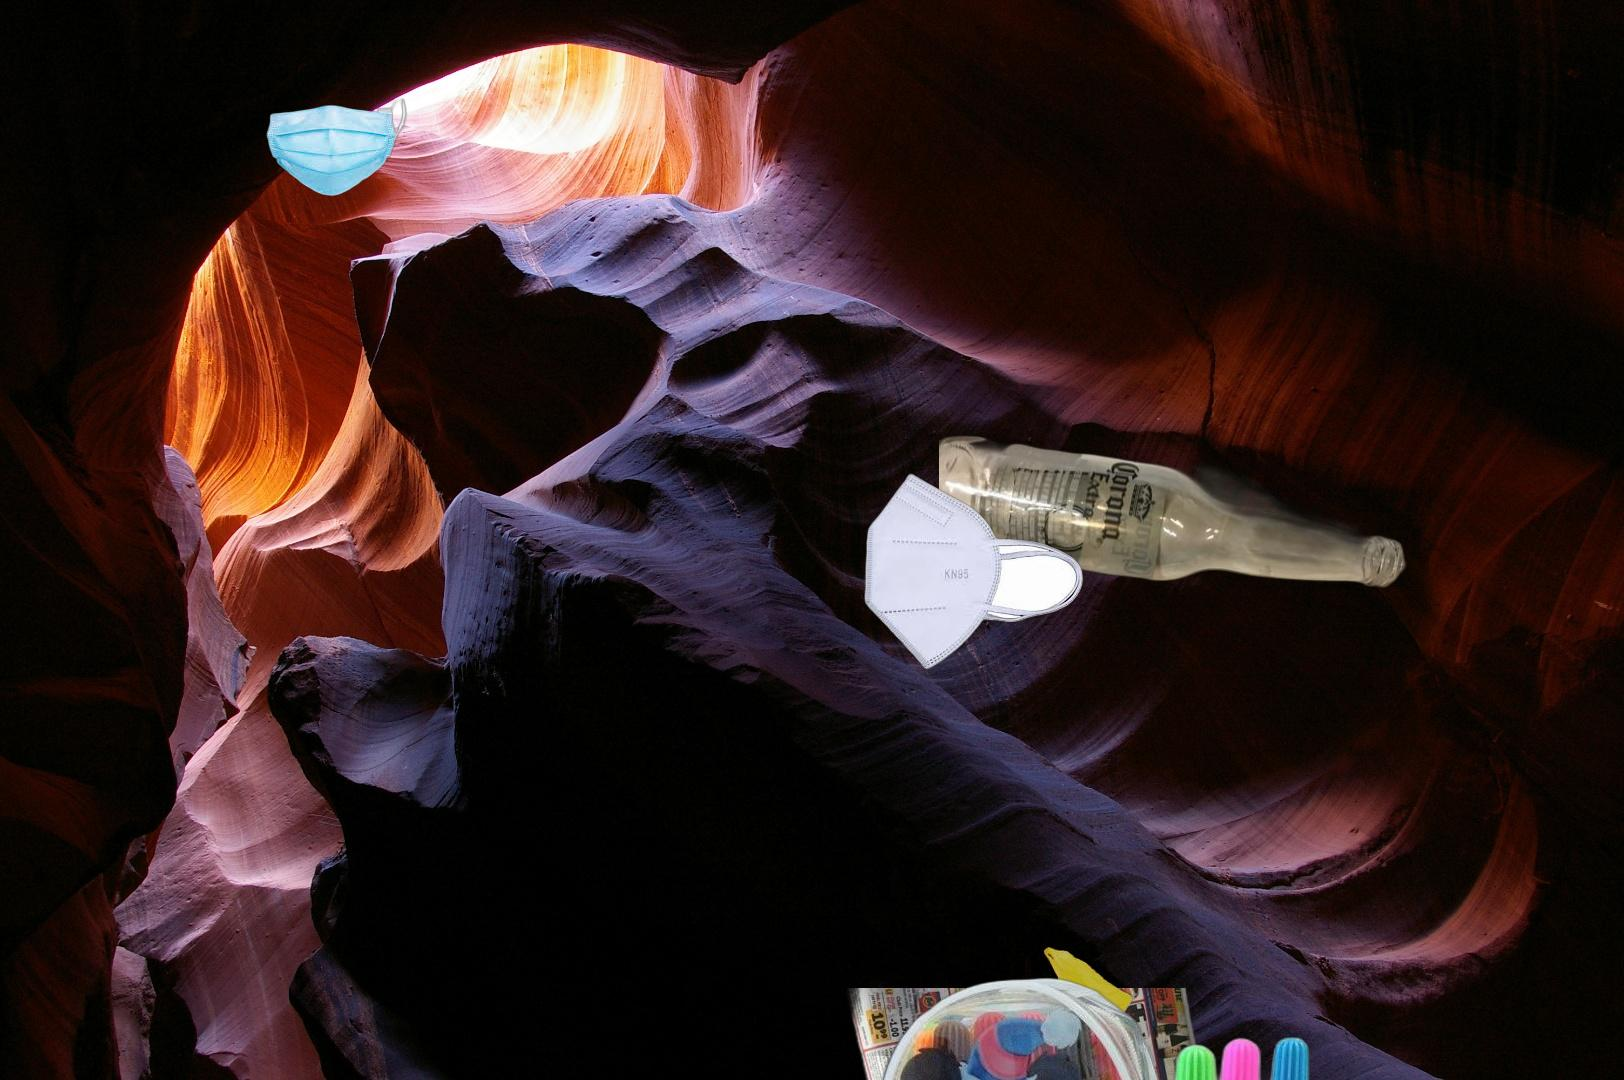glass: (938, 432, 1411, 591)
paper: (826, 988, 1238, 1080)
penholder: (858, 951, 1316, 1080)
plastic-bag: (858, 868, 1158, 1056)
trash: (861, 471, 1085, 673), (258, 90, 408, 199)
